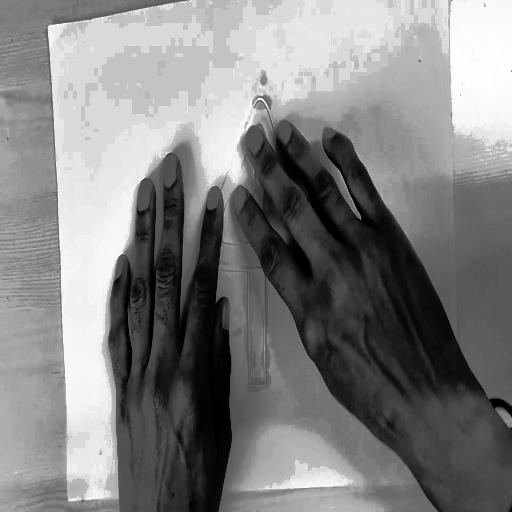bottom_left: (64, 492, 70, 506)
signboard: (198, 83, 325, 404)
top_left: (43, 20, 54, 34)
